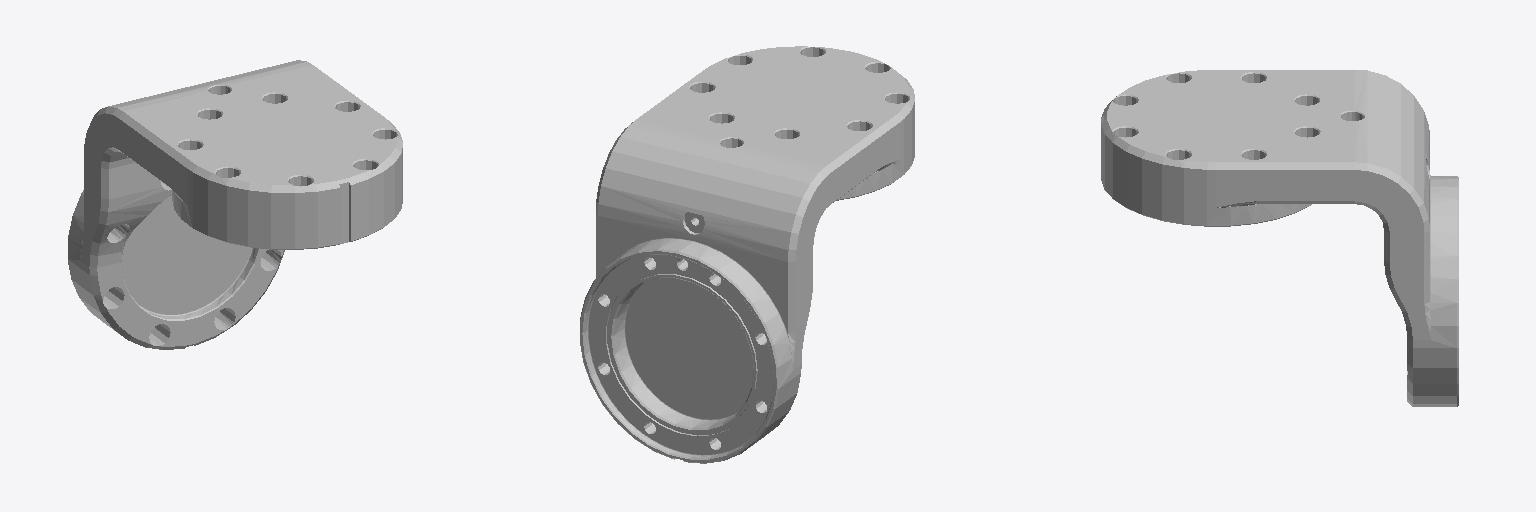
Rendered from left_lower_arm_pitch_link.obj.
3 views of the same model, side by side, from view 1: azimuth 30°, elevation 25°; view 2: azimuth 150°, elevation 25°; view 3: azimuth 270°, elevation 25° (orthographic).
Visible parts, largest first — view 1: left_lower_arm_pitch_link; view 2: left_lower_arm_pitch_link; view 3: left_lower_arm_pitch_link.
Boxes of the visible parts, box(x1,y1,x2,y2) form: left_lower_arm_pitch_link: box(68, 60, 402, 349); left_lower_arm_pitch_link: box(580, 46, 914, 463); left_lower_arm_pitch_link: box(1101, 70, 1458, 406).
Bounding box in the file's own units: 0.04 × 0.0535 × 0.062.